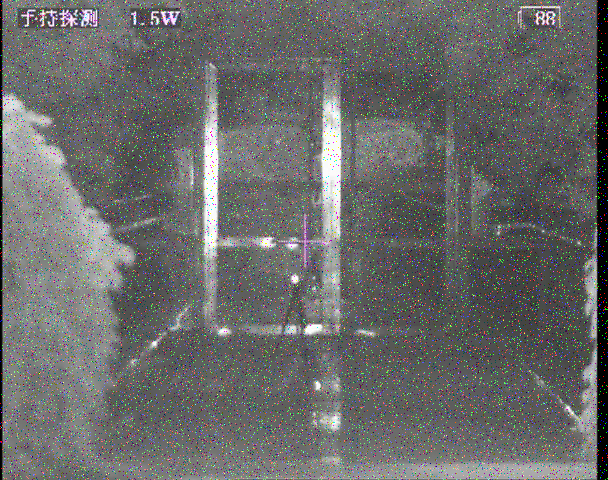my: (289, 273, 299, 285)
